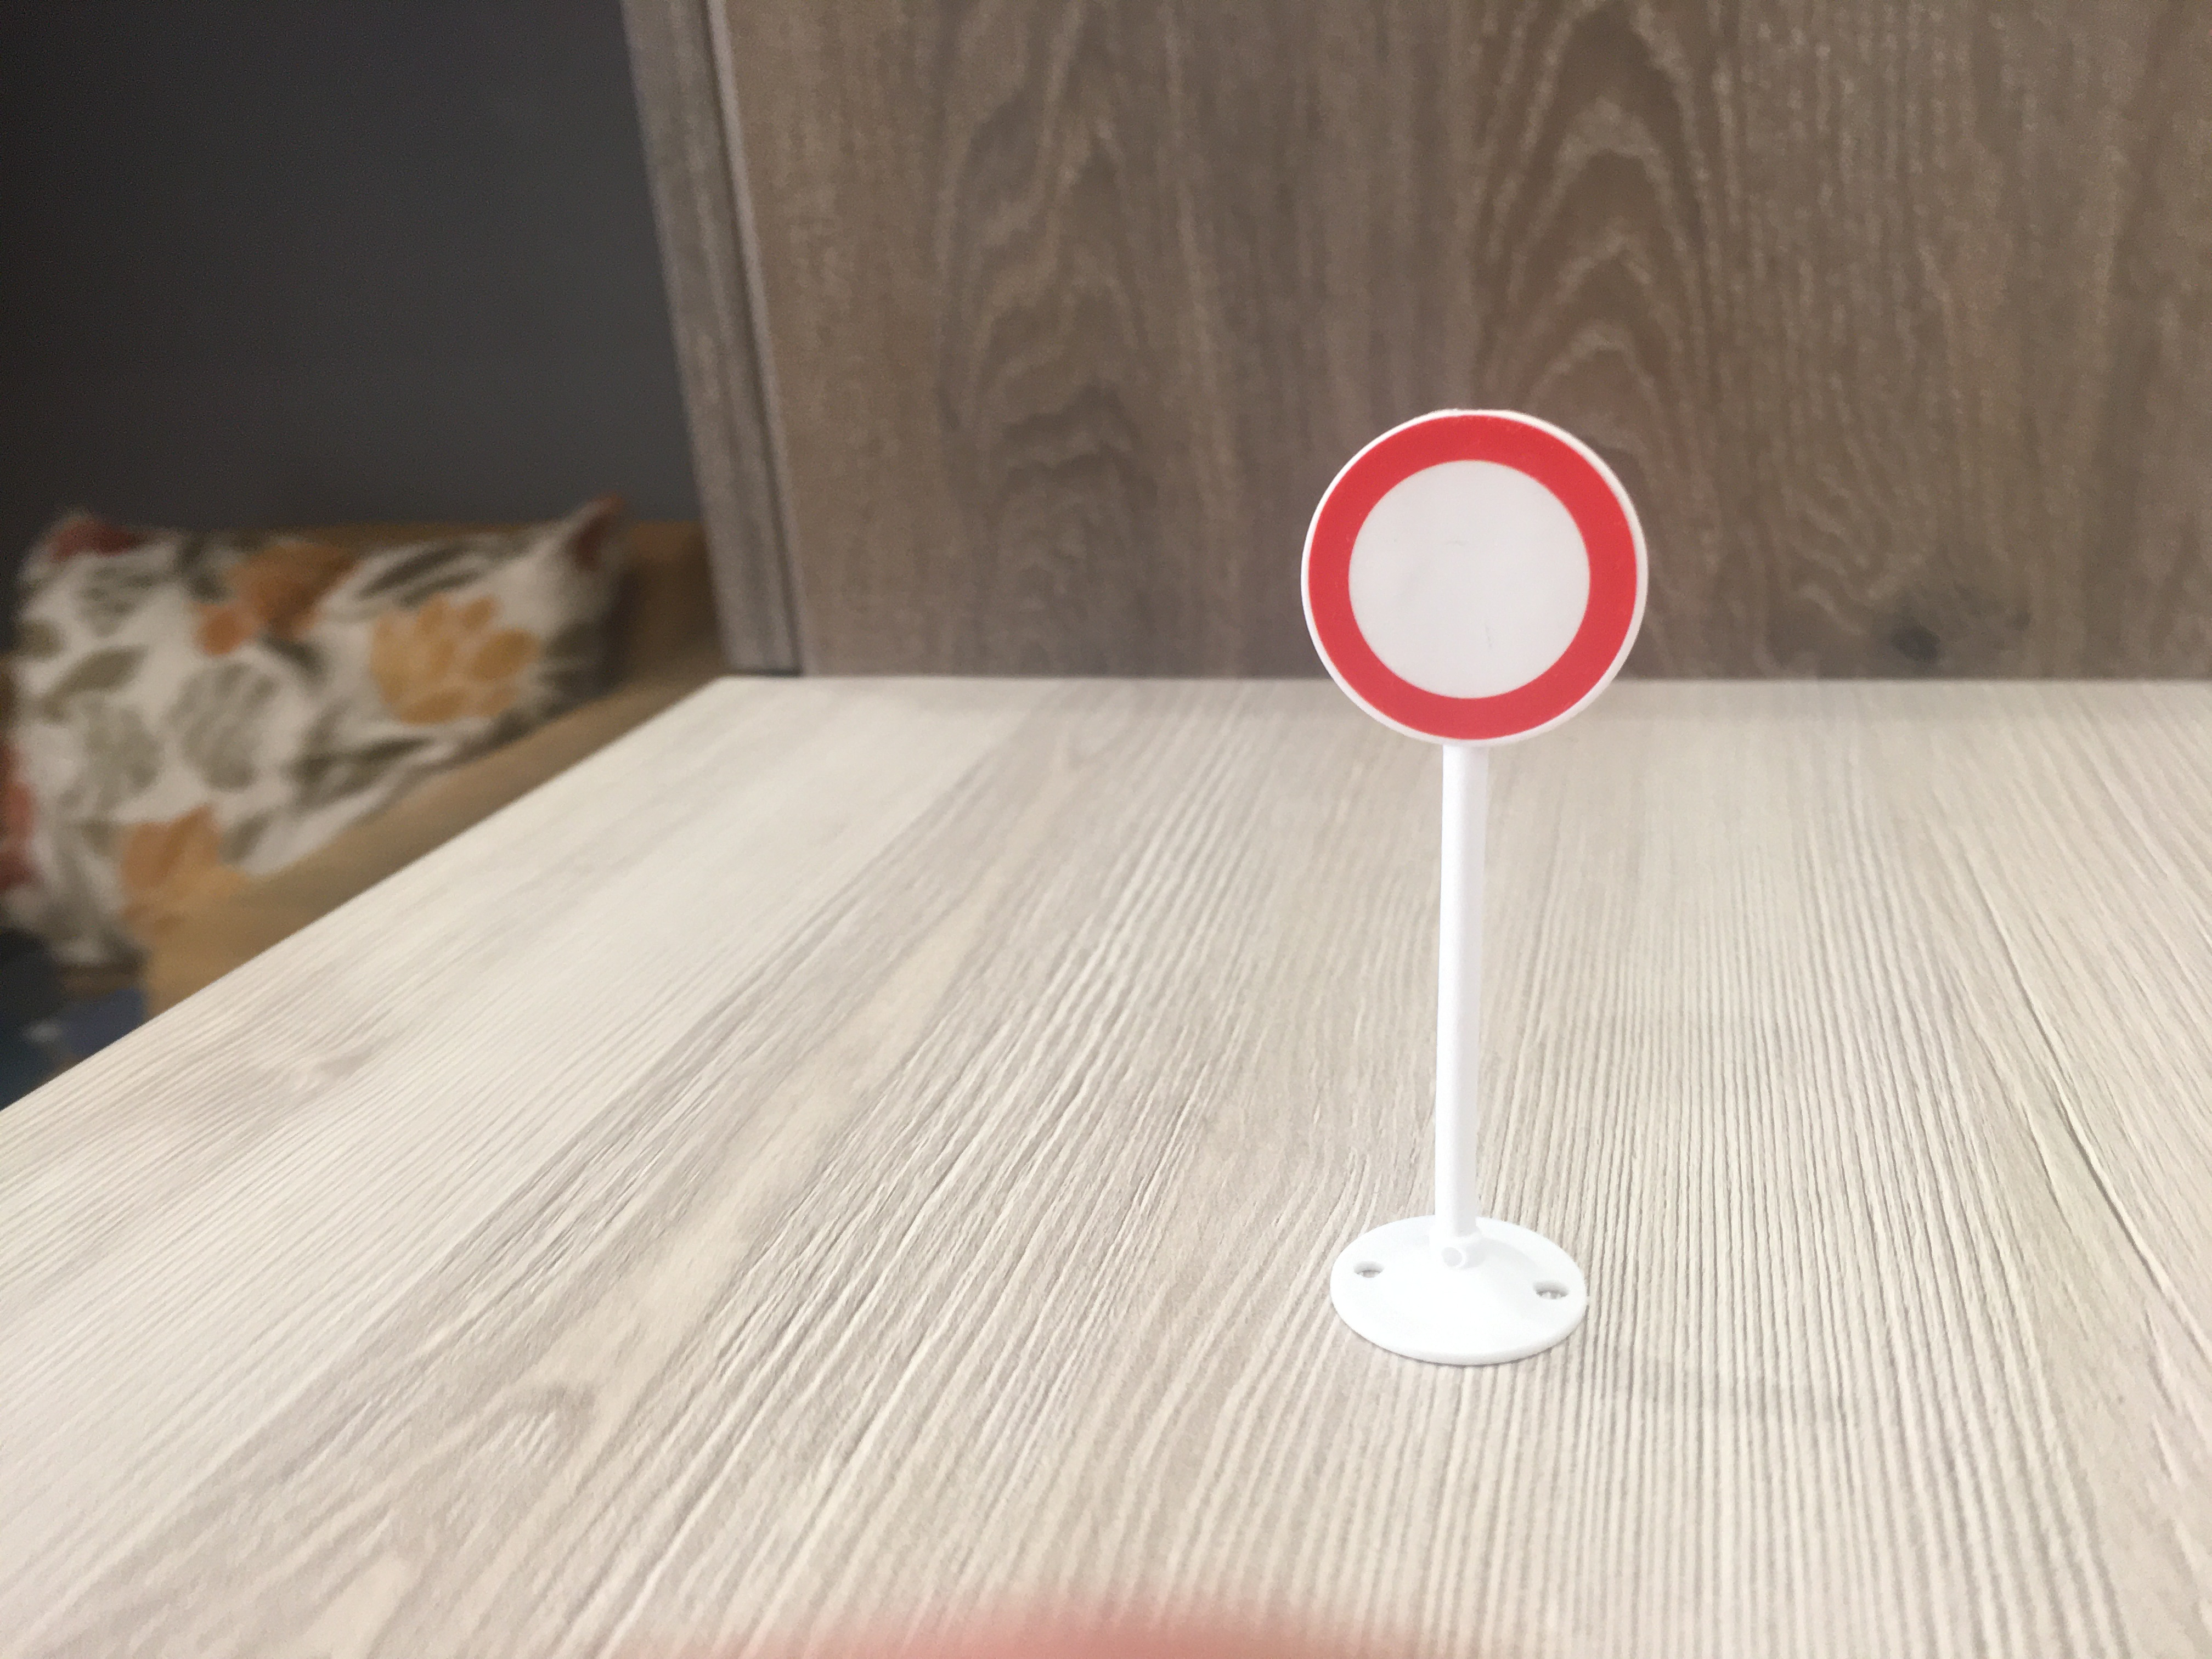noDrive: (1294, 410, 1649, 749)
